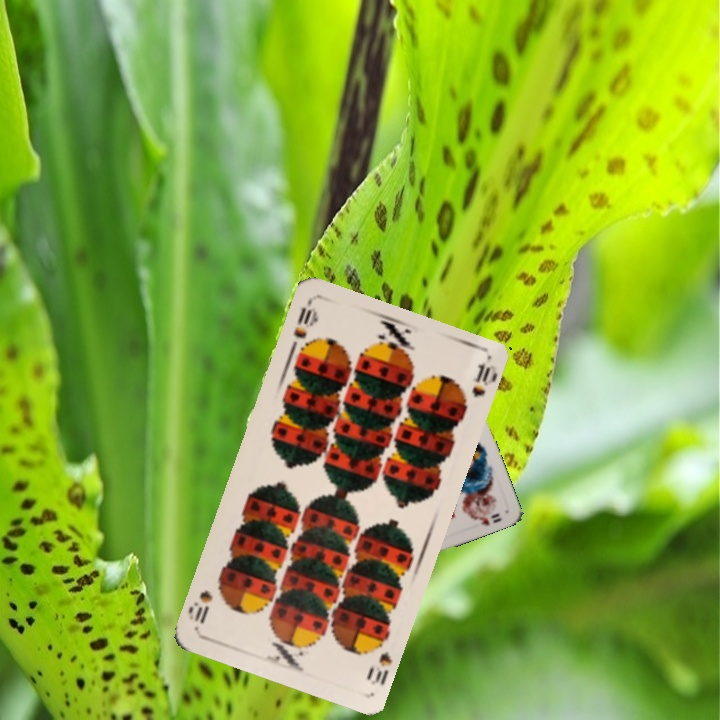S10: (362, 633, 395, 688), (289, 298, 320, 342)
